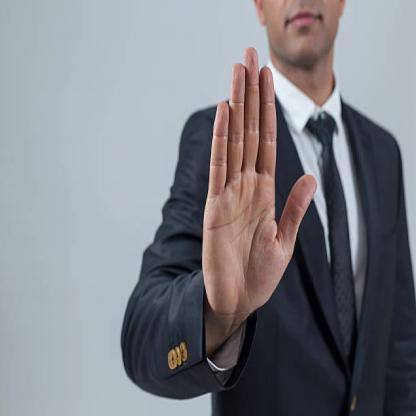stop: (199, 42, 319, 324)
